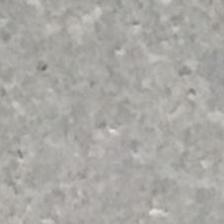Non_Crack: (7, 23, 184, 181)
